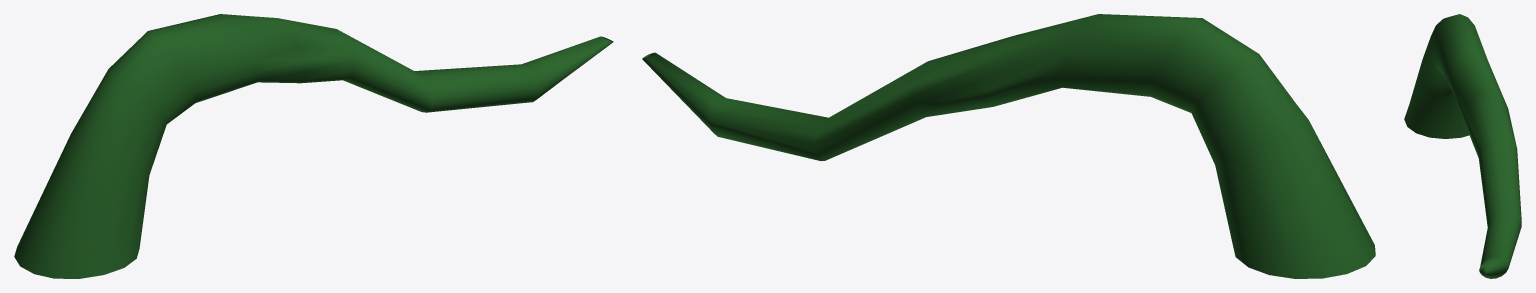
File: Planta2.fbx
3 renders of one model, left to right at view 1: azimuth 30°, elevation 25°; view 2: azimuth 150°, elevation 25°; view 3: azimuth 270°, elevation 25°, orthographic. The views are drawn at different scales.
Parts seen in each view (by area): view 1: 2Tallo.002; view 2: 2Tallo.002; view 3: 2Tallo.002.
Part boxes in pixels (left/top/right/bottom): 2Tallo.002: left=14, top=14, right=613, bottom=278; 2Tallo.002: left=642, top=14, right=1375, bottom=278; 2Tallo.002: left=1404, top=14, right=1521, bottom=278.
Size of the model in its own units: 221 by 65.7 by 51.79.
